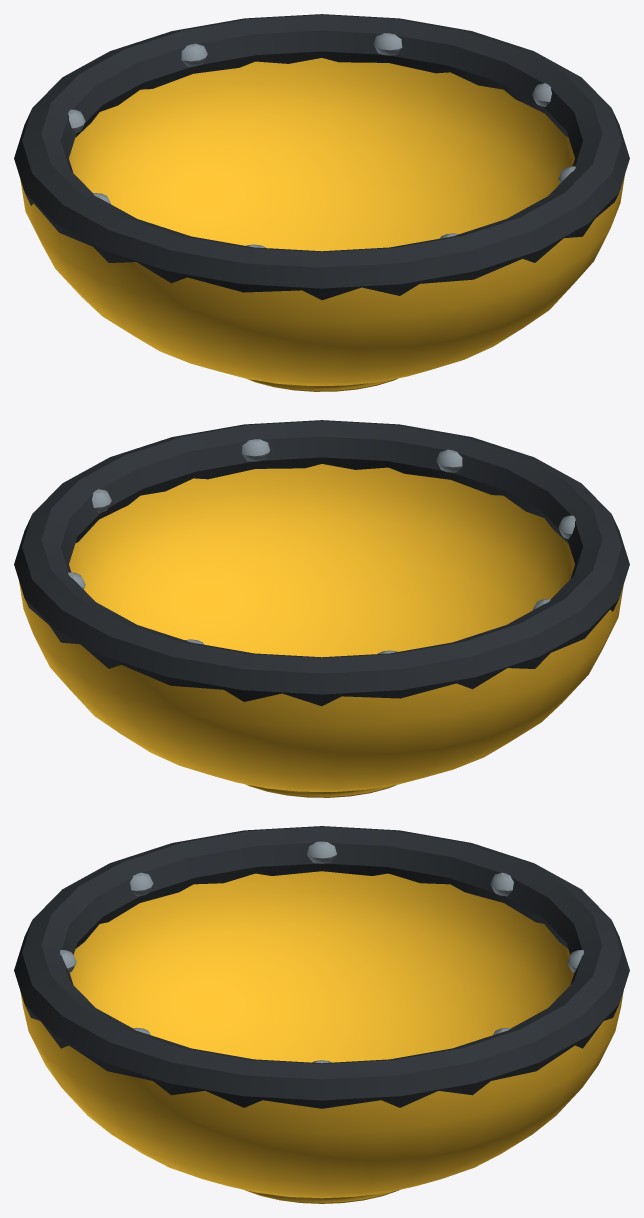
File: 01_CartoonShell.fbx
3 renders of one model, top to bottom at view 1: azimuth 30°, elevation 25°; view 2: azimuth 150°, elevation 25°; view 3: azimuth 270°, elevation 25°, orthographic.
Parts seen in each view (by area): view 1: Hollow_Bowl_Shell, Shell_Rim, Shell_Bolt_2; view 2: Hollow_Bowl_Shell, Shell_Rim, Shell_Bolt_8; view 3: Hollow_Bowl_Shell, Shell_Rim, Shell_Bolt_5.
Part boxes in pixels (box(x1,y1,x2,y2)): Hollow_Bowl_Shell: box(20, 58, 624, 391); Shell_Rim: box(14, 14, 629, 300); Shell_Bolt_2: box(373, 33, 402, 55); Hollow_Bowl_Shell: box(19, 464, 623, 797); Shell_Rim: box(14, 420, 629, 706); Shell_Bolt_8: box(241, 439, 270, 461); Hollow_Bowl_Shell: box(20, 871, 623, 1203); Shell_Rim: box(14, 826, 629, 1108); Shell_Bolt_5: box(307, 841, 336, 863).
Size of the model in its own units: 101 by 38.5 by 101.
